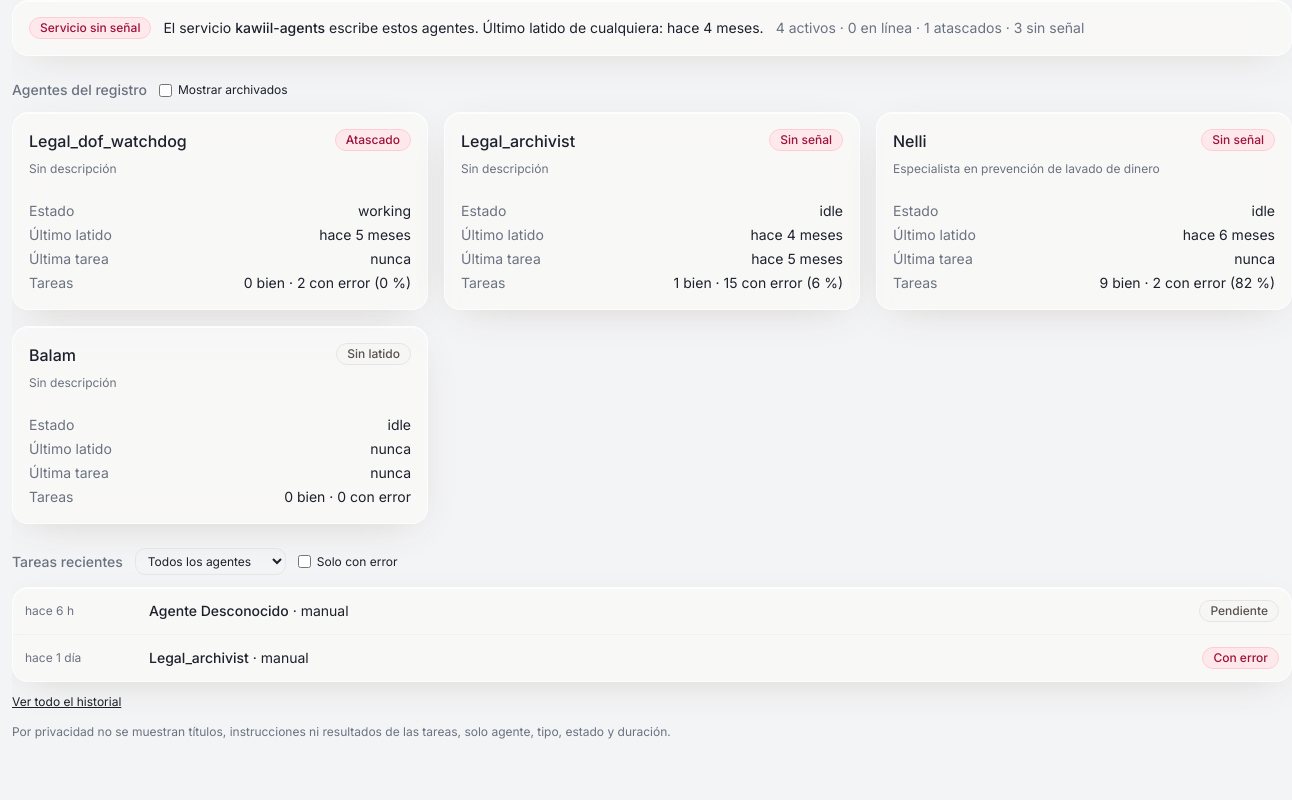
Test: vista AgentesRegistro › muestra los agentes activos con su estado y oculta el archivado hasta pedirlo
Expected: the element with test id "registro-legal_dof_watchdog" shows "Atascado", [346,132,400,147]
Expected: the element with test id "registro-balam" shows "Sin latido", [347,346,400,361]
Click the checkbox labelled "Mostrar archivados". click: x=165, y=90
box: [159,84,172,96]
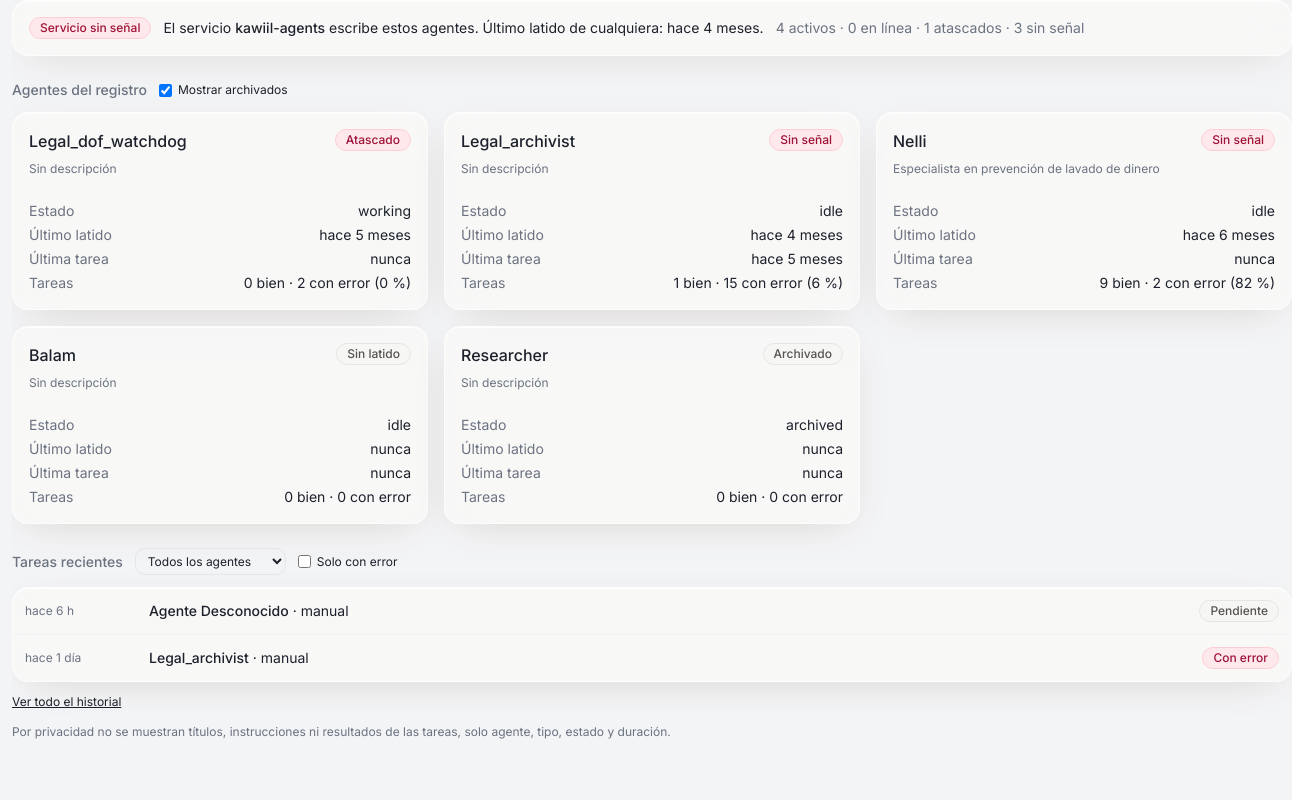
Now the element with test id "registro-researcher" shows "Archivado", box [774,346,832,361]
